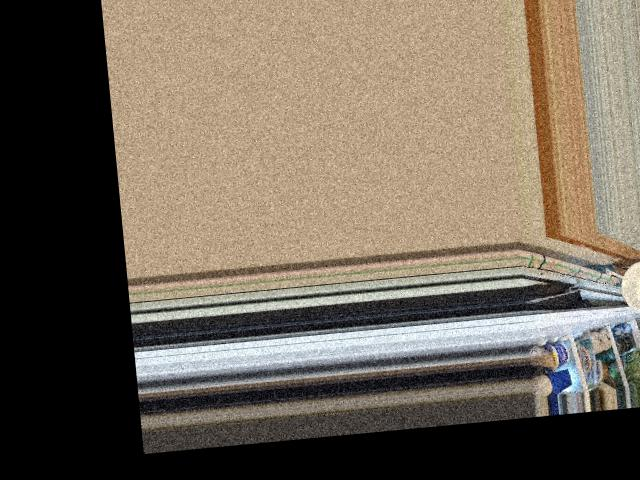cotage: (619, 261, 640, 313)
